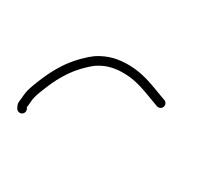n: (10, 52, 178, 125)
